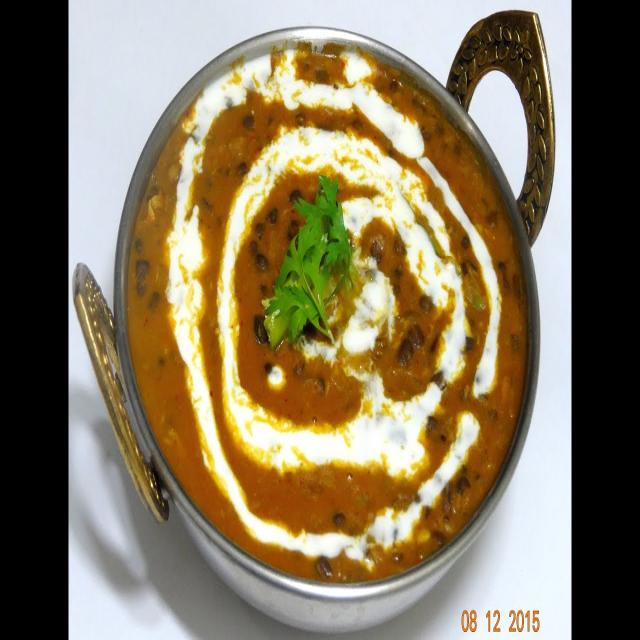dal_makhani: (144, 34, 529, 566)
